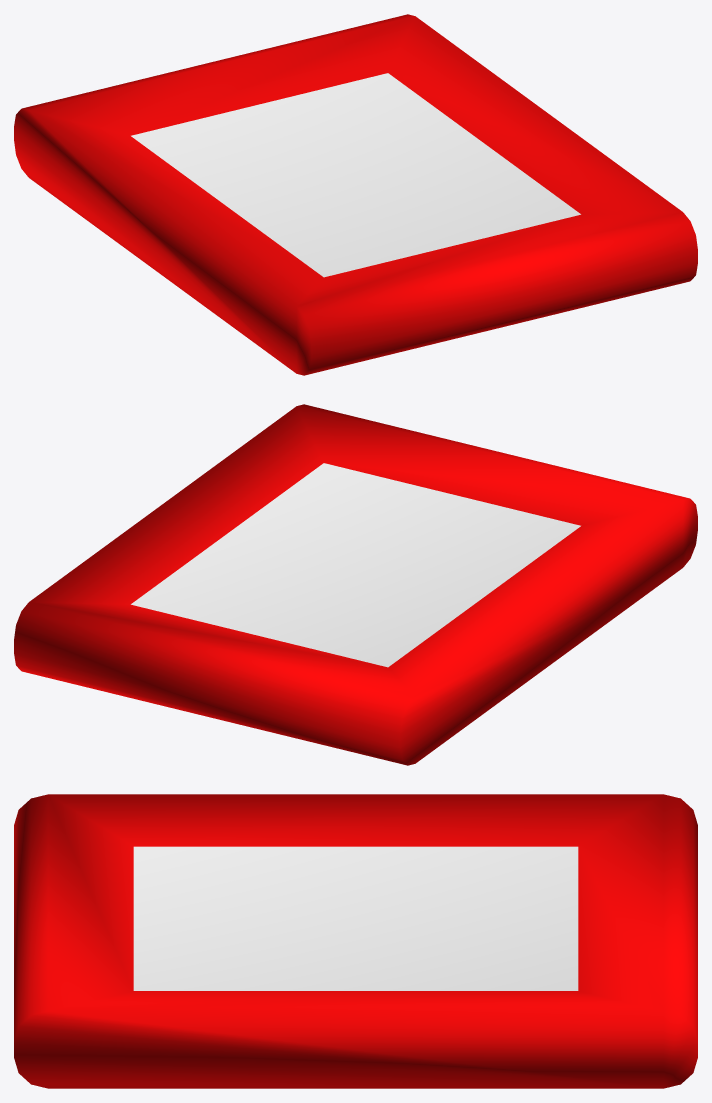
The model's file is MovingPlatform.fbx.
The picture shows the model from 3 angles, top to bottom: view 1: azimuth 30°, elevation 25°; view 2: azimuth 150°, elevation 25°; view 3: azimuth 270°, elevation 25°; orthographic projection. The views are drawn at different scales.
Parts seen in each view (by area): view 1: Platform; view 2: Platform; view 3: Platform.
Part boxes in pixels (x1=…): Platform: x1=14, y1=14, x2=697, y2=375; Platform: x1=14, y1=404, x2=697, y2=765; Platform: x1=14, y1=794, x2=697, y2=1088.
Bounding box in the file's own units: 300 × 50 × 400.
Materials: 1 (1 with a texture image).
